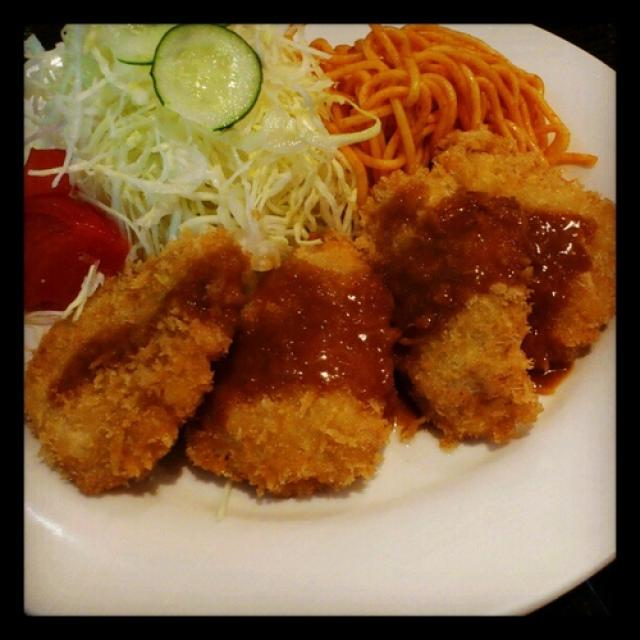牛肉菜式: (27, 92, 612, 522)
